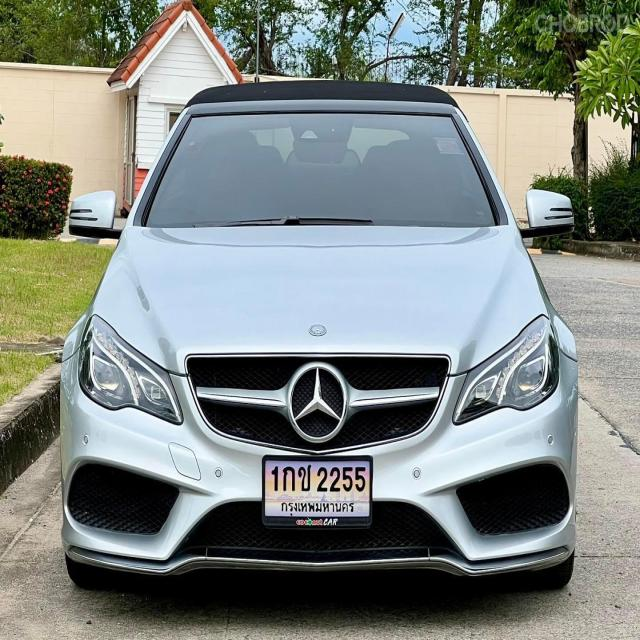license_plate: (252, 446, 385, 538)
